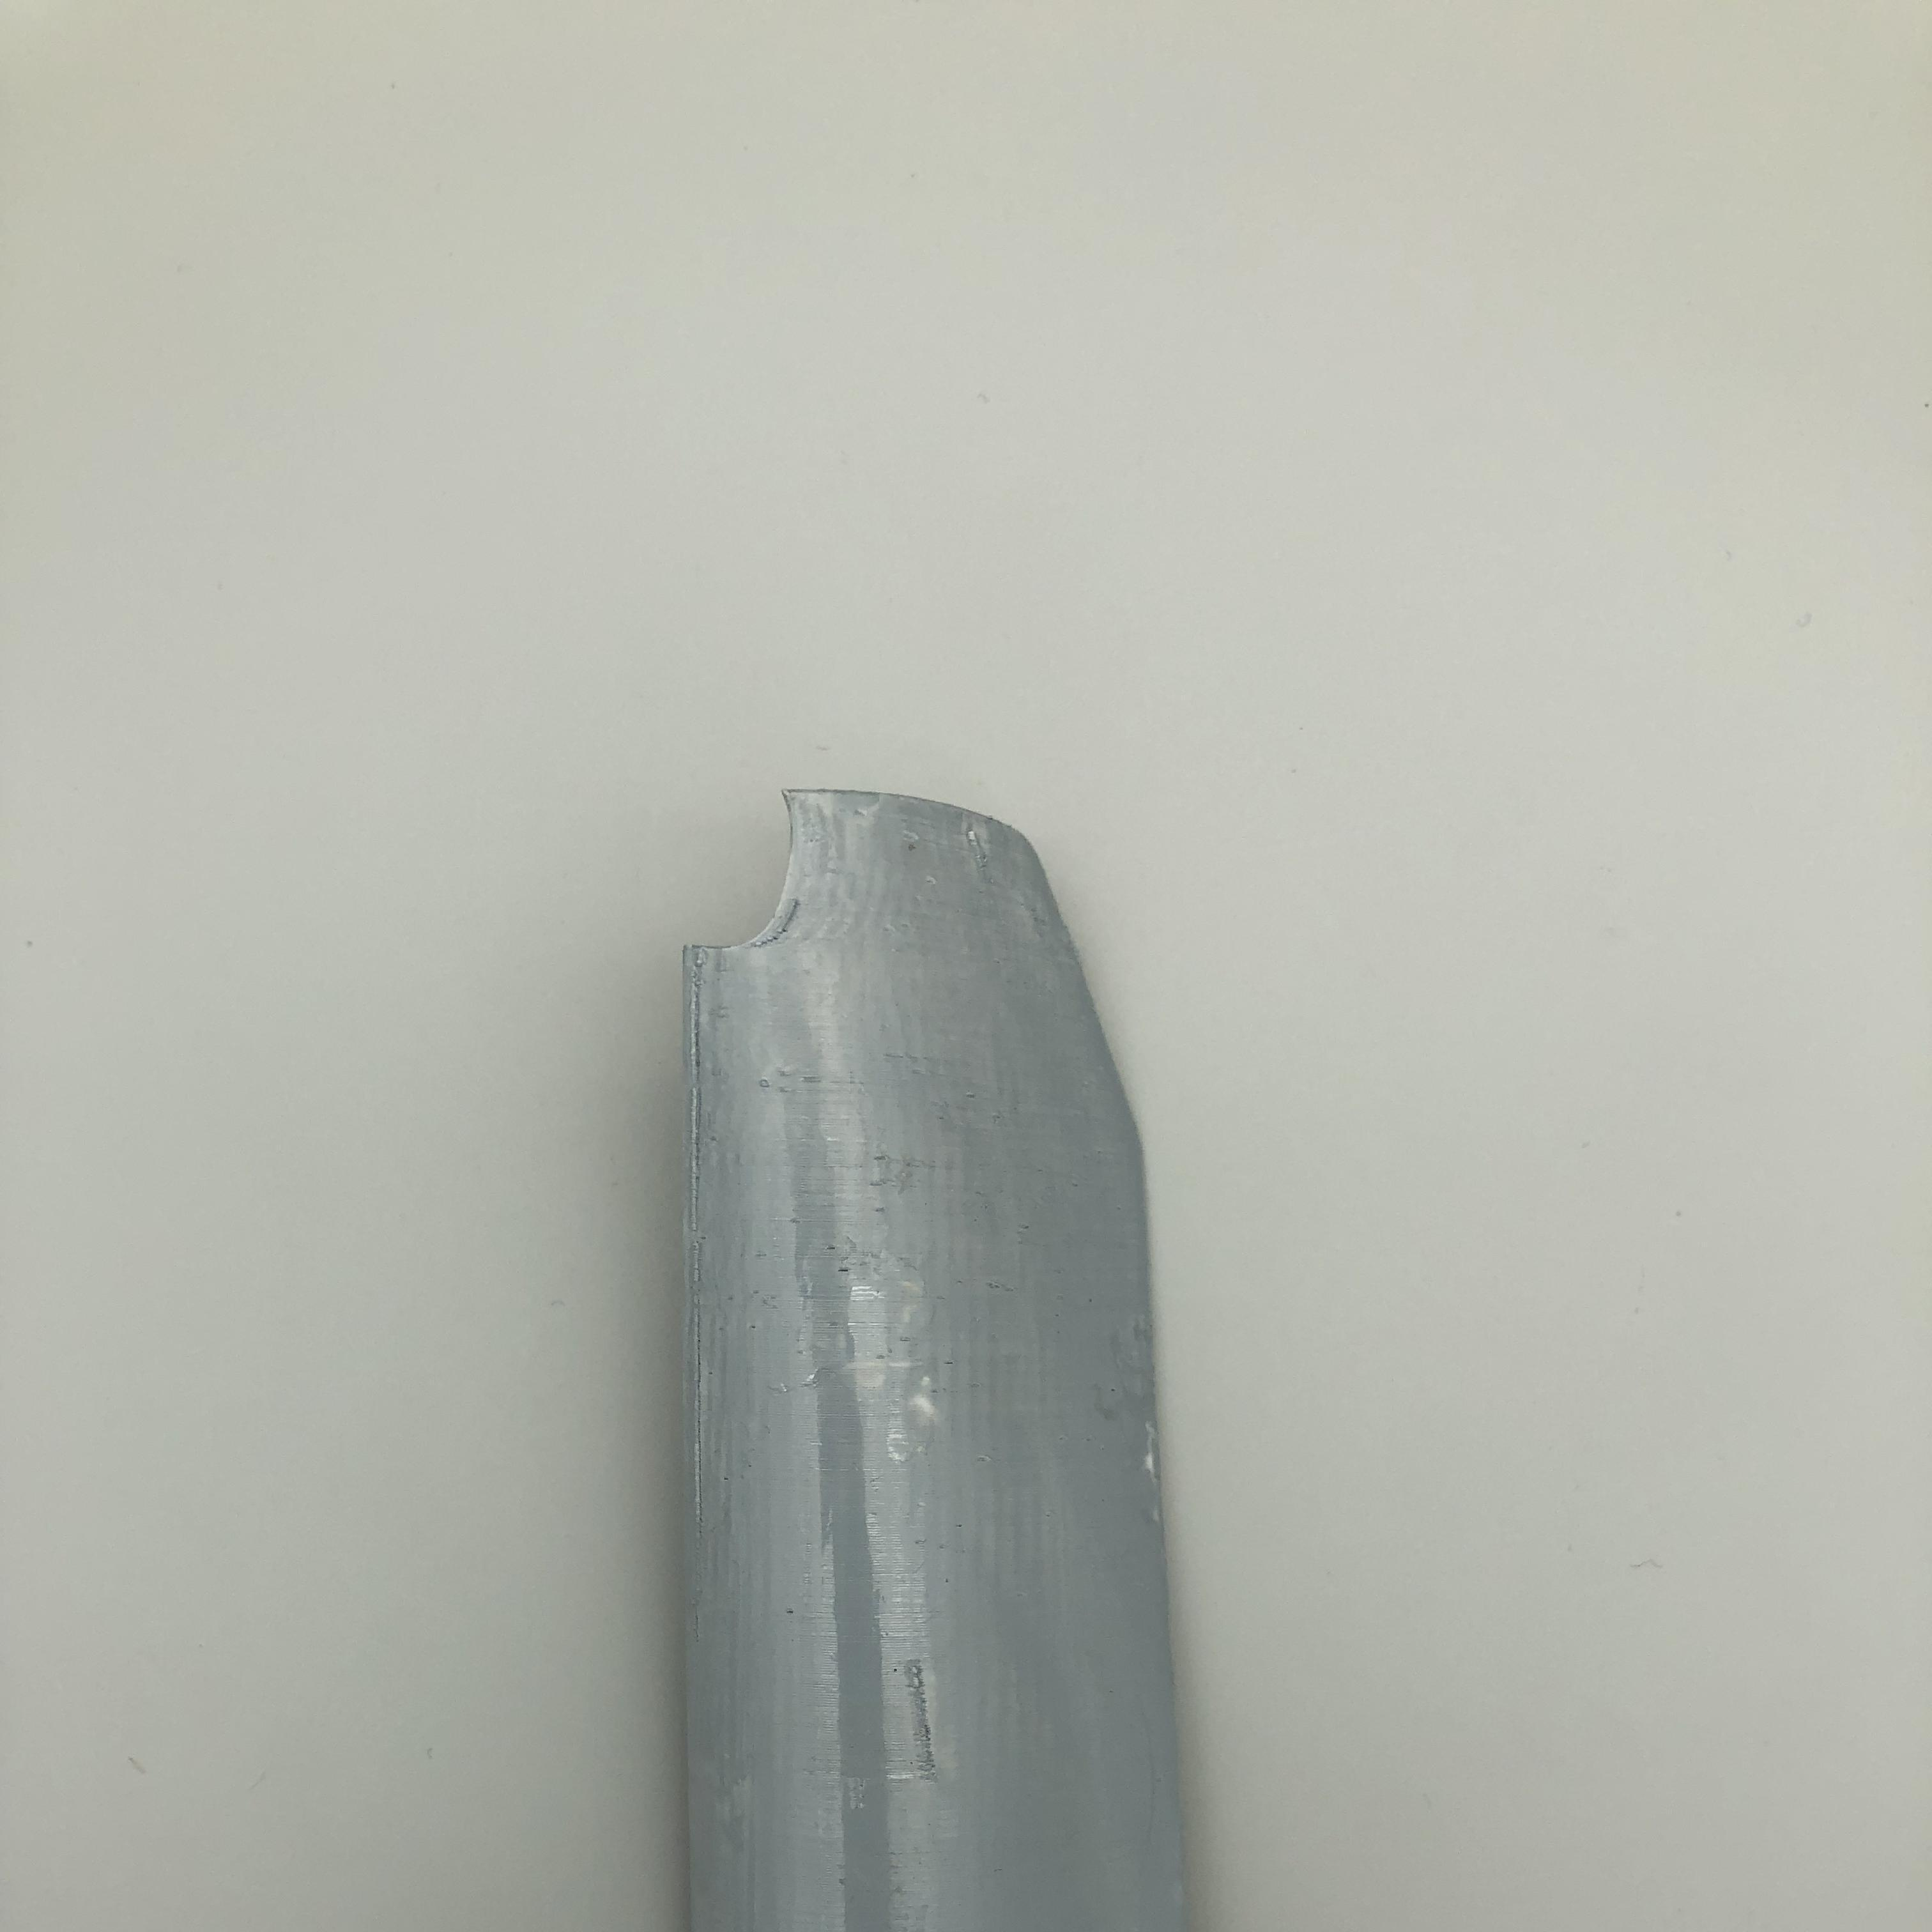fracture: (669, 796, 824, 973)
